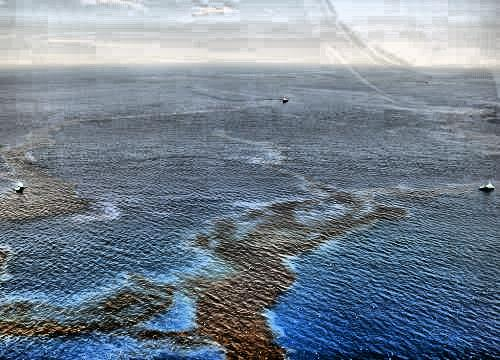truecolor: (198, 192, 408, 360), (0, 321, 86, 336), (104, 291, 144, 314)
